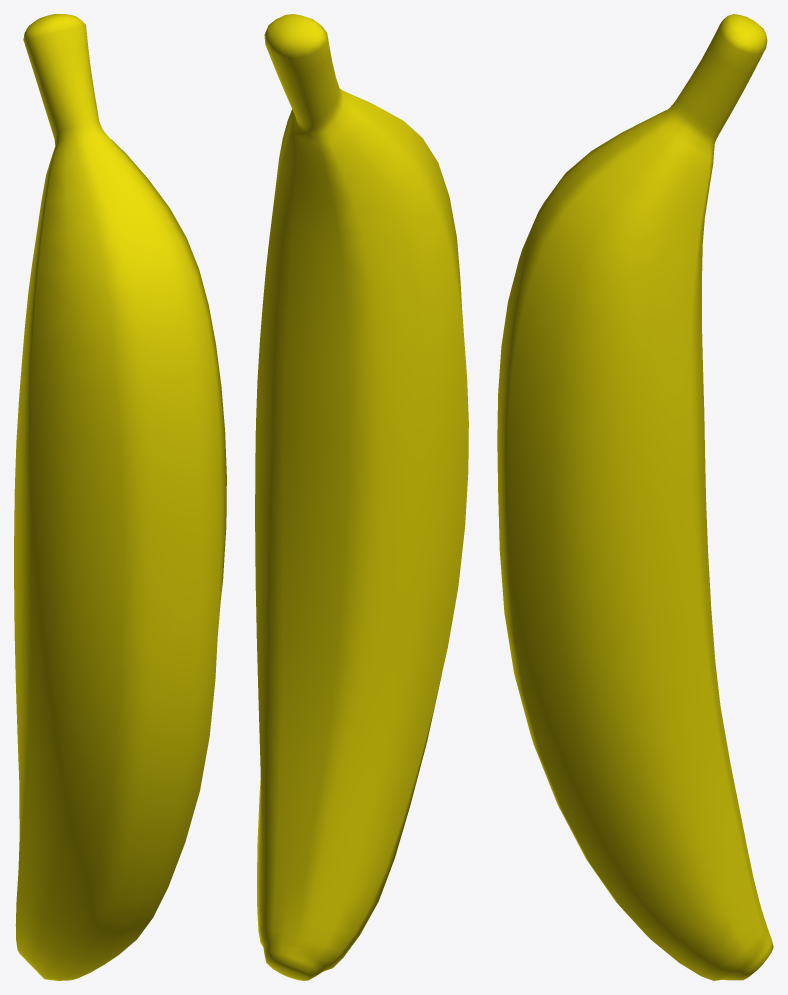
File: bananana.gltf
3 views of the same model, side by side, from view 1: azimuth 30°, elevation 25°; view 2: azimuth 150°, elevation 25°; view 3: azimuth 270°, elevation 25° (orthographic).
Parts seen in each view (by area): view 1: polySurface1; view 2: polySurface1; view 3: polySurface1.
Part boxes in pixels (x1,y1,x2,y2): polySurface1: (14,14,226,980); polySurface1: (255,14,468,980); polySurface1: (497,14,773,980).
Bounding box in the file's own units: 3.67 × 17.13 × 4.47.
